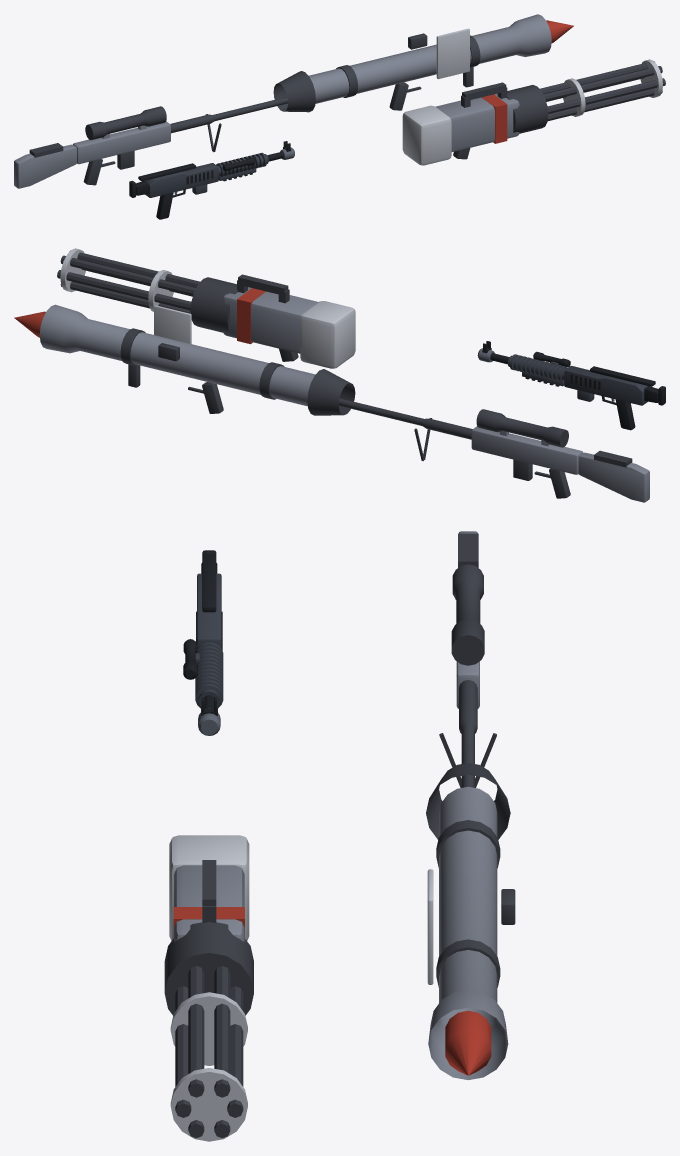
Rendered from early-guns.glb.
3 views of the same model, one above another, from view 1: azimuth 30°, elevation 25°; view 2: azimuth 150°, elevation 25°; view 3: azimuth 270°, elevation 25° (orthographic). The views are drawn at different scales.
Visible parts, largest first — view 1: k_tube, r_pack, r_body, n_receiver, n_stock, k_shield, r_drum, k_rear, receiver, n_scope, n_barrel, r_barrel.003 (+14 smaller); view 2: k_tube, r_pack, r_body, n_receiver, n_stock, r_drum, receiver, k_rear, n_scope, n_barrel, r_barrel, k_shield (+16 smaller); view 3: k_tube, r_drum, r_ring.001, r_pack, r_body, n_scope, k_warhead, r_ring, r_barrel.001, r_barrel.002, k_rear, n_barrel (+5 smaller).
Part boxes in pixels (bbox=[...]): k_tube: bbox=[309, 14, 551, 103]; r_pack: bbox=[402, 105, 451, 165]; r_body: bbox=[435, 93, 519, 151]; n_receiver: bbox=[73, 121, 170, 164]; n_stock: bbox=[14, 144, 76, 188]; k_shield: bbox=[436, 28, 469, 79]; r_drum: bbox=[506, 85, 548, 133]; k_rear: bbox=[273, 71, 315, 112]; receiver: bbox=[145, 163, 218, 197]; n_scope: bbox=[85, 106, 166, 140]; n_barrel: bbox=[170, 97, 288, 133]; r_barrel.003: bbox=[547, 78, 665, 113]; k_tube: bbox=[39, 304, 315, 406]; r_pack: bbox=[300, 301, 355, 368]; r_body: bbox=[223, 287, 318, 353]; n_receiver: bbox=[471, 426, 582, 474]; n_stock: bbox=[578, 452, 649, 502]; r_drum: bbox=[190, 277, 237, 332]; receiver: bbox=[564, 366, 647, 405]; k_rear: bbox=[307, 369, 355, 415]; n_scope: bbox=[476, 409, 568, 447]; n_barrel: bbox=[339, 398, 472, 439]; r_barrel: bbox=[57, 270, 191, 310]; k_shield: bbox=[154, 305, 191, 343]; k_tube: bbox=[428, 786, 508, 1080]; r_drum: bbox=[164, 922, 253, 1015]; r_ring.001: bbox=[170, 1068, 247, 1141]; r_pack: bbox=[169, 835, 249, 940]; r_body: bbox=[174, 865, 244, 941]; n_scope: bbox=[451, 564, 484, 665]; k_warhead: bbox=[445, 1010, 491, 1075]; r_ring: bbox=[170, 992, 247, 1065]; r_barrel.001: bbox=[214, 966, 230, 1097]; r_barrel.002: bbox=[188, 966, 204, 1097]; k_rear: bbox=[426, 763, 510, 839]; n_barrel: bbox=[459, 680, 477, 787].
Size of the model in its own units: 2.83 by 0.3485 by 0.745.
